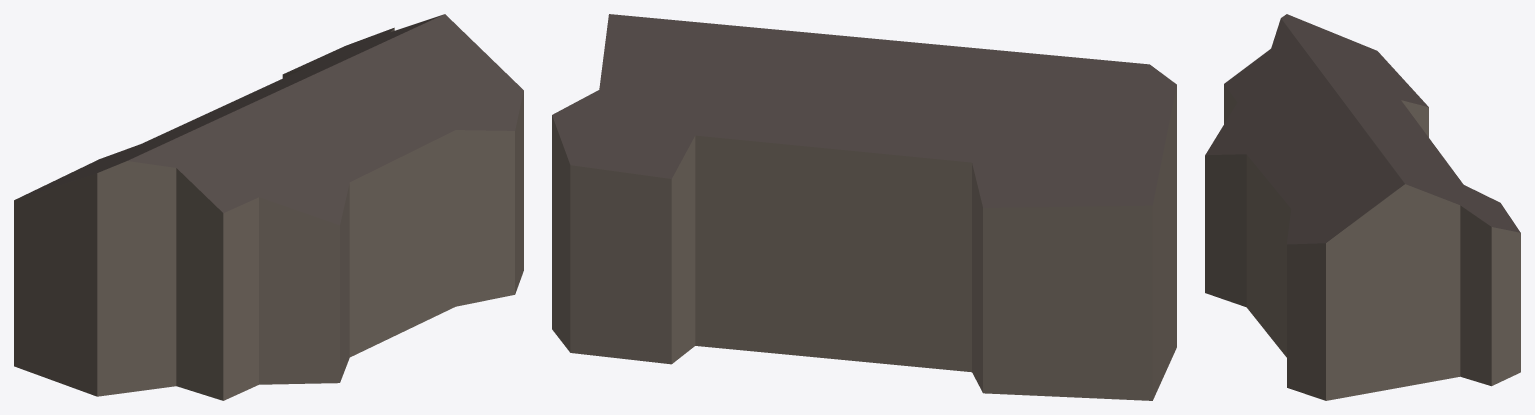
The picture shows the model from 3 angles, left to right: view 1: azimuth 30°, elevation 25°; view 2: azimuth 150°, elevation 25°; view 3: azimuth 270°, elevation 25°; orthographic projection. The views are drawn at different scales.
Visible parts, largest first — view 1: HP-w1512461412; view 2: HP-w1512461412; view 3: HP-w1512461412.
Part boxes in pixels (bbox=[...]): HP-w1512461412: bbox=[14, 14, 523, 400]; HP-w1512461412: bbox=[552, 14, 1176, 400]; HP-w1512461412: bbox=[1205, 14, 1520, 400].
Bounding box in the file's own units: 28.69 × 13.23 × 18.68.
